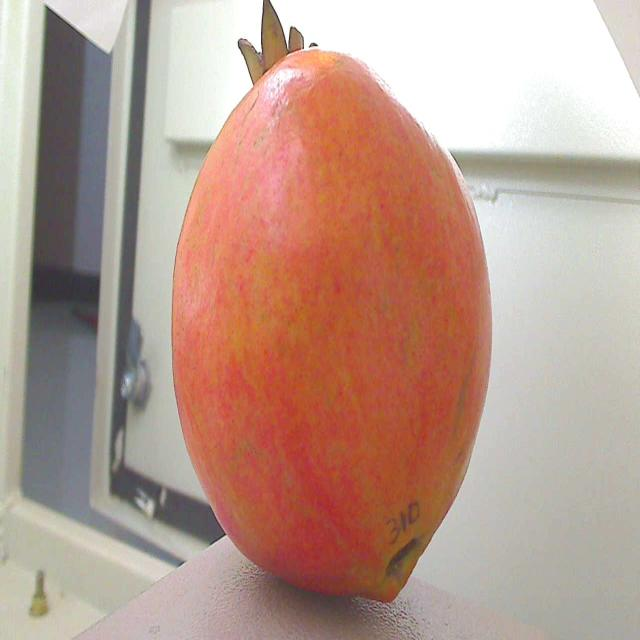pomegranate: (153, 0, 505, 624)
